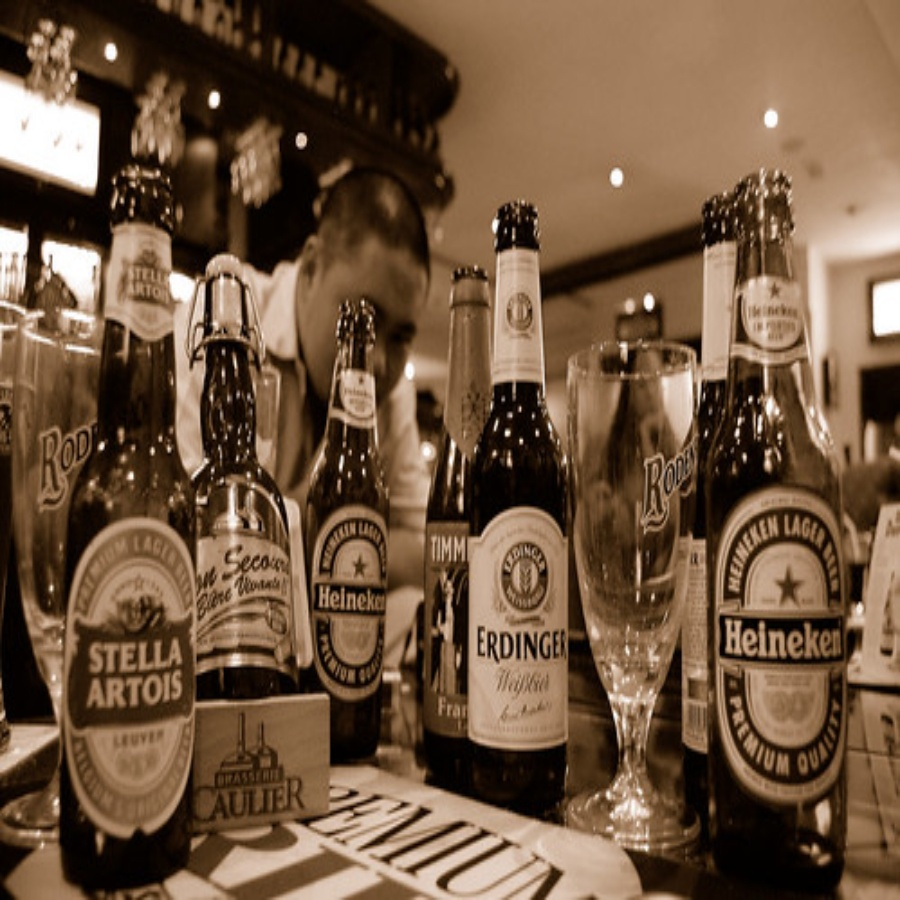beer: (690, 189, 852, 877), (59, 176, 202, 878), (479, 183, 568, 821), (304, 296, 400, 758)
